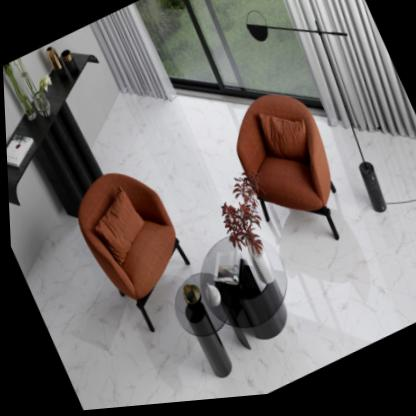Ceramic floor: (246, 139, 416, 399), (23, 220, 221, 411), (90, 95, 248, 276)
Chair: (76, 176, 191, 334), (235, 99, 337, 246)
Curtains: (280, 0, 416, 148), (88, 4, 174, 103)
